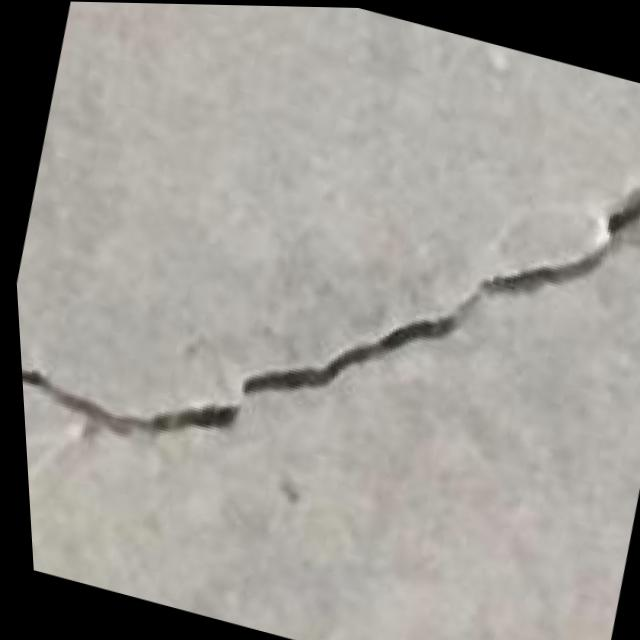Crack: (1, 27, 640, 570)
